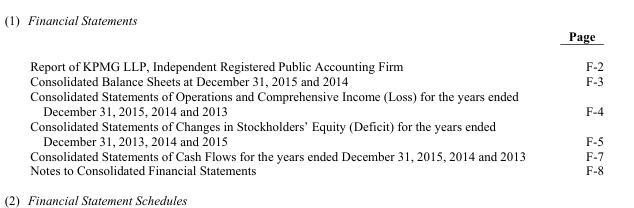table: (29, 28, 602, 177)
table column: (29, 28, 546, 177), (546, 28, 602, 177)
table column header: (29, 28, 602, 50)
table row: (29, 88, 602, 118), (29, 118, 602, 147), (29, 50, 602, 73), (29, 28, 602, 50), (29, 73, 602, 88), (29, 147, 602, 162), (29, 162, 602, 177)
